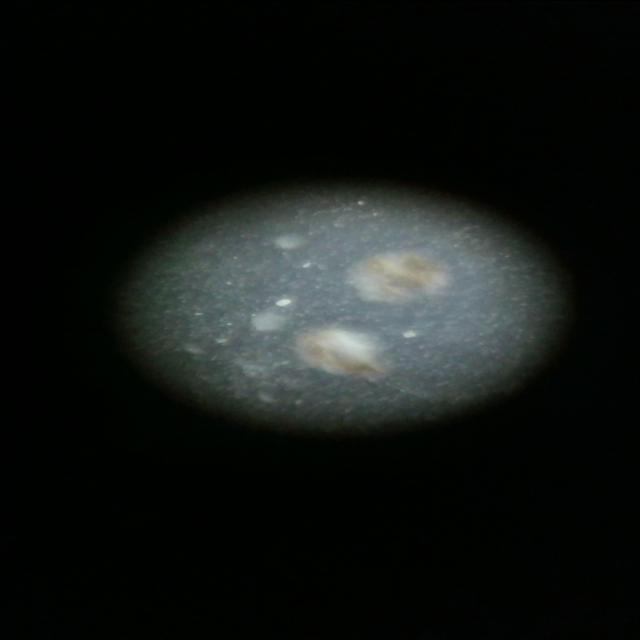alexandrium: (327, 238, 451, 310), (270, 320, 404, 382)
